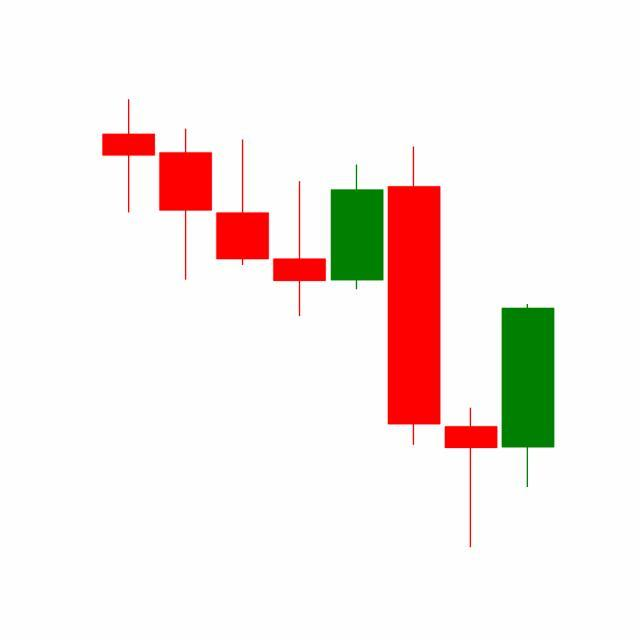Three Outside Up-Down: (328, 142, 500, 548)
